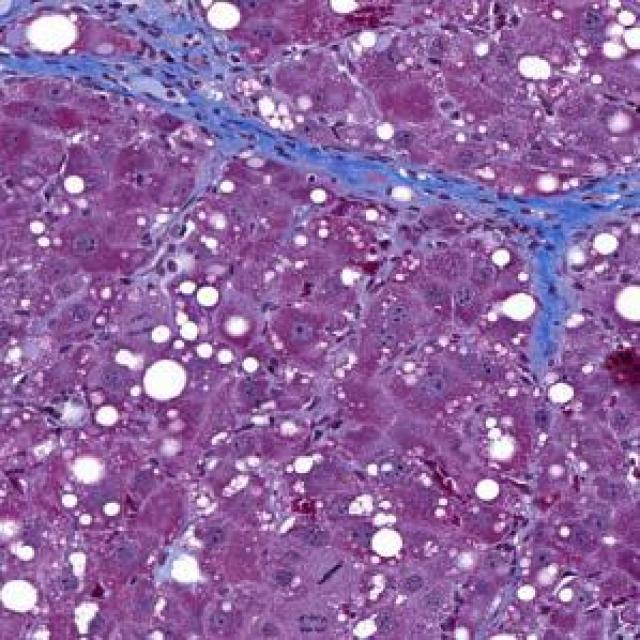fibrosis: (126, 32, 319, 167), (392, 163, 608, 265)
